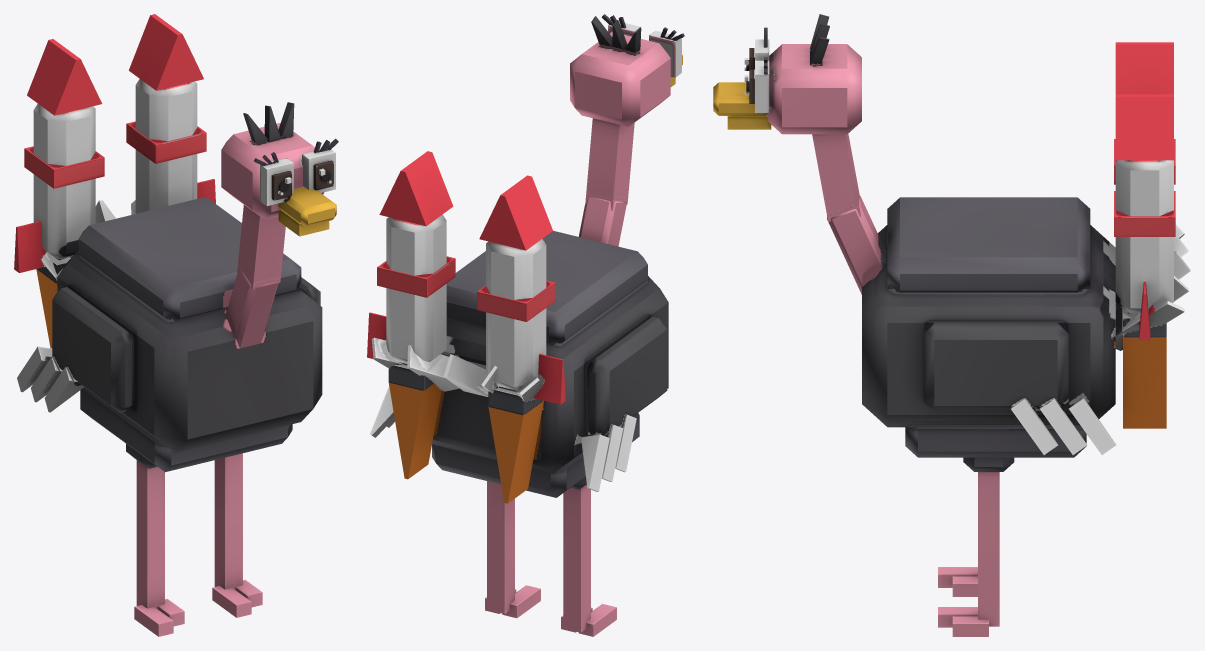
File: AutrucheFusee_Rig.fbx
3 views of the same model, side by side, from view 1: azimuth 30°, elevation 25°; view 2: azimuth 150°, elevation 25°; view 3: azimuth 270°, elevation 25° (orthographic). The views are drawn at different scales.
Visible parts, largest first — view 1: Body, Head, WingR, LegR, LegL, Flame1; view 2: Body, Head, WingR, LegR, LegL, Flame1, Flame0, WingL; view 3: Body, Head, WingL, LegL, Flame0, LegR.
Boxes of the visible parts, box(x1,y1,x2,y2) form: Body: box(14, 14, 322, 472); Head: box(221, 102, 338, 348); WingR: box(17, 287, 133, 412); LegR: box(126, 444, 184, 636); LegL: box(212, 453, 262, 617); Flame1: box(36, 269, 57, 348); Body: box(367, 151, 668, 497); Head: box(570, 14, 684, 246); WingR: box(581, 316, 667, 491); LegR: box(561, 477, 616, 636); LegL: box(485, 481, 540, 618); Flame1: box(488, 401, 543, 503); Flame0: box(389, 382, 441, 479); WingL: box(370, 386, 394, 437); Body: box(862, 42, 1190, 457); Head: box(713, 14, 886, 294); WingL: box(923, 322, 1116, 454); LegL: box(938, 457, 1014, 636); Flame0: box(1123, 338, 1166, 428); LegR: box(938, 567, 977, 596).
Size of the model in its own units: 2.59 by 6 by 4.44.
Materials: 1 (1 with a texture image).
